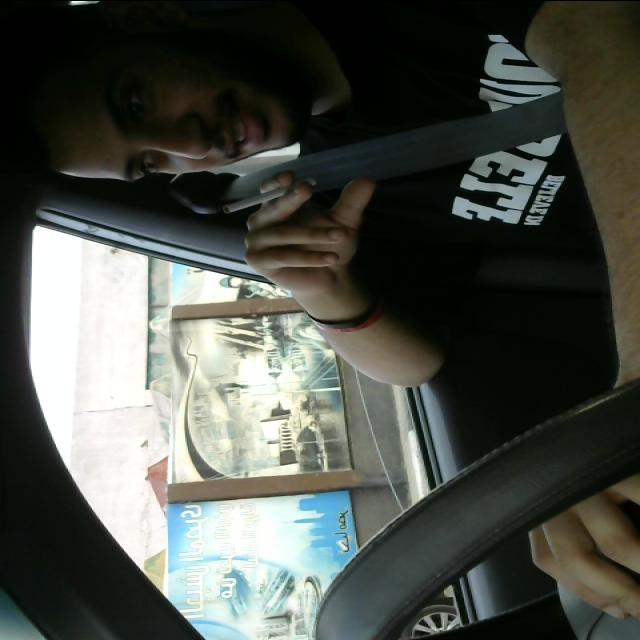smoking: (219, 174, 318, 214)
